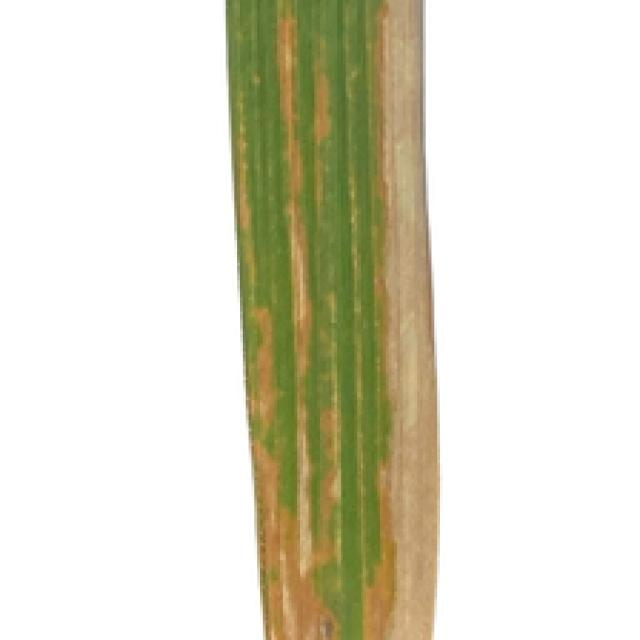Rice___Bacterial_Leaf_Blight: (223, 0, 442, 637)
